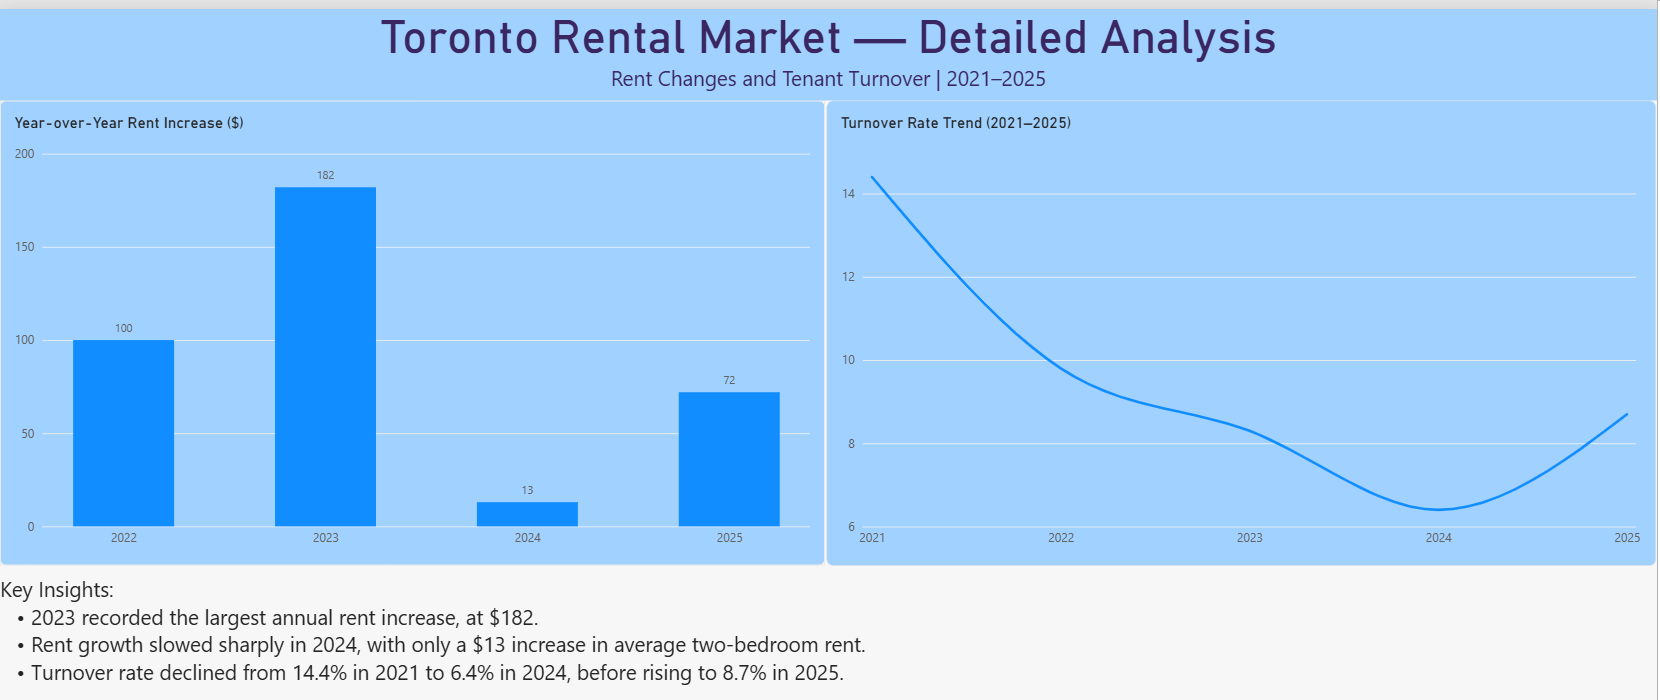

The dashboard page shown, as its layout file describes it:
{"tool":"powerbi","page":{"name":"Page 1","canvas":[1920,1080],"ordinal":1},"visuals":[{"type":"columnChart","title":"Year-over-Year Rent Increase ($)","fields":{"Category":["toronto_rental rental_market_analysis.year"],"Y":["Sum(toronto_rental rental_market_analysis.rent_increase)"]},"box":[0,105.9,956,538.8],"z":1001},{"type":"lineChart","title":"Turnover Rate Trend (2021–2025)","fields":{"Category":["toronto_rental rental_market_analysis.year"],"Y":["Sum(toronto_rental rental_market_analysis.turnover_rate)"]},"box":[958.2,105.9,961,539],"z":1002},{"type":"textbox","title":"Toronto Rental Market — Detailed Analysis","box":[0,0,1920,105.9],"z":1004},{"type":"textbox","box":[0,655,1920,177.6],"z":1005}]}

Visuals, with their boxes on the page's 1920x1080 design canvas (x1, y1, x2, y2). These are canvas units, not pixel positions in the 1660x700 screenshot, which may show the page scaled, cropped or inside an application window:
"Year-over-Year Rent Increase ($)" columnChart: {"left": 0, "top": 106, "right": 956, "bottom": 645}
"Turnover Rate Trend (2021–2025)" lineChart: {"left": 958, "top": 106, "right": 1919, "bottom": 645}
"Toronto Rental Market — Detailed Analysis" textbox: {"left": 0, "top": 0, "right": 1920, "bottom": 106}
textbox: {"left": 0, "top": 655, "right": 1920, "bottom": 833}
